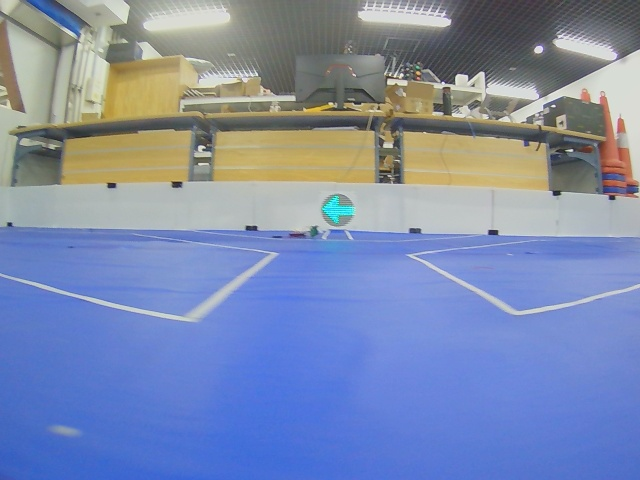left_green: (321, 194, 355, 227)
